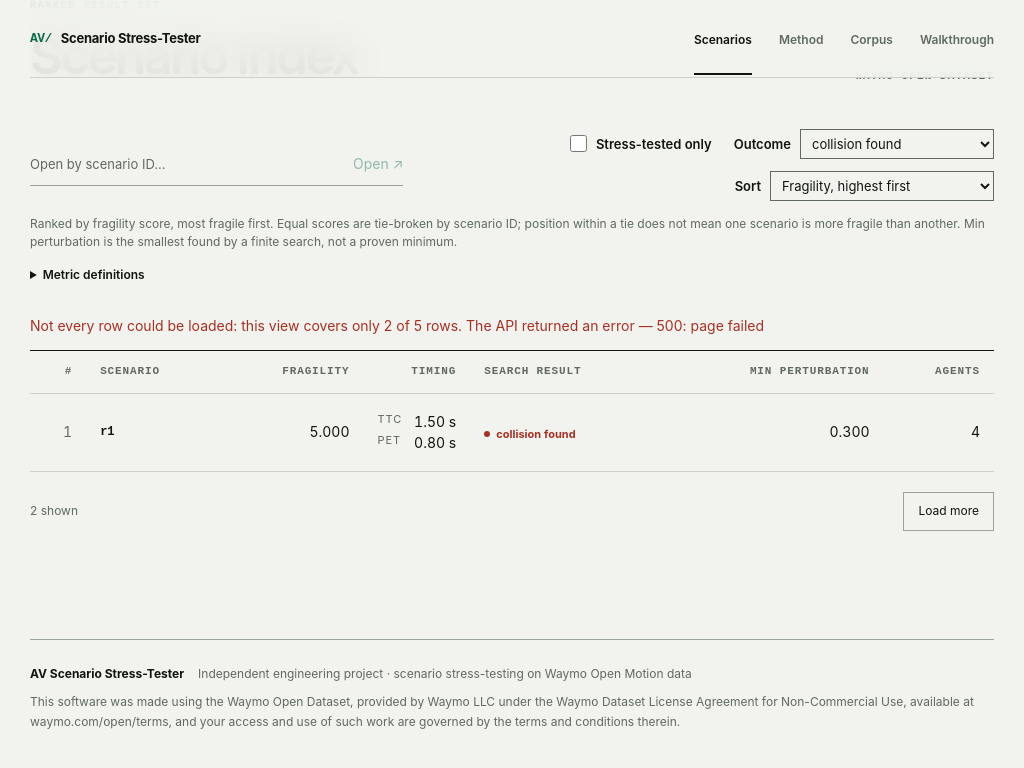
Test: a partly loaded list is never shown as the whole one › if a page cannot be loaded, says the view covers only the loaded rows, and Load more retries
(page scrolled)
Expected: the message shows "Not every row could be loaded: this view covers only 2 of 5 rows.", [30,316,764,334]
Expected: the message shows "500: page failed", [466,316,764,334]
Click the button "Load more": (949, 511) [903,492,994,531]
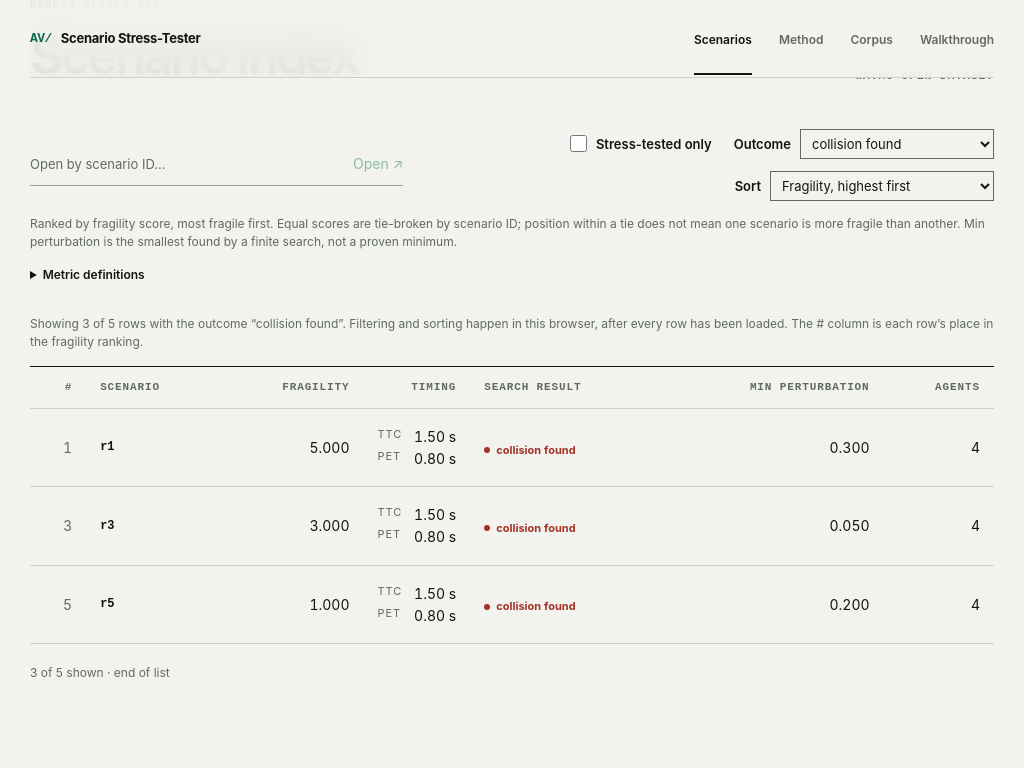
Result: the message is gone
